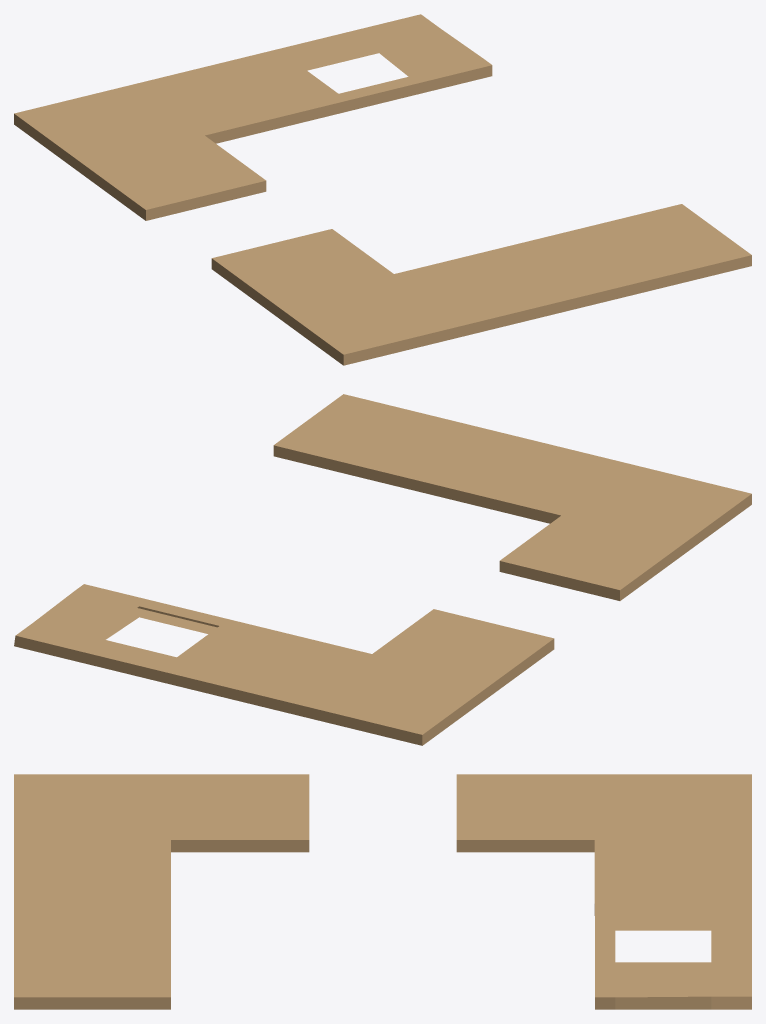
File: MarbleTop.fbx
3 renders of one model, top to bottom at view 1: azimuth 30°, elevation 25°; view 2: azimuth 150°, elevation 25°; view 3: azimuth 270°, elevation 25°, orthographic. The views are drawn at different scales.
Parts seen in each view (by area): view 1: Marble Counter.001; view 2: Marble Counter.001; view 3: Marble Counter.001.
Boxes of the visible parts, x1,y1,x2,y2 form: Marble Counter.001: (14, 14, 751, 365); Marble Counter.001: (14, 394, 751, 745); Marble Counter.001: (14, 774, 751, 1009).
Size of the model in its own units: 254 by 6.53 by 355.
